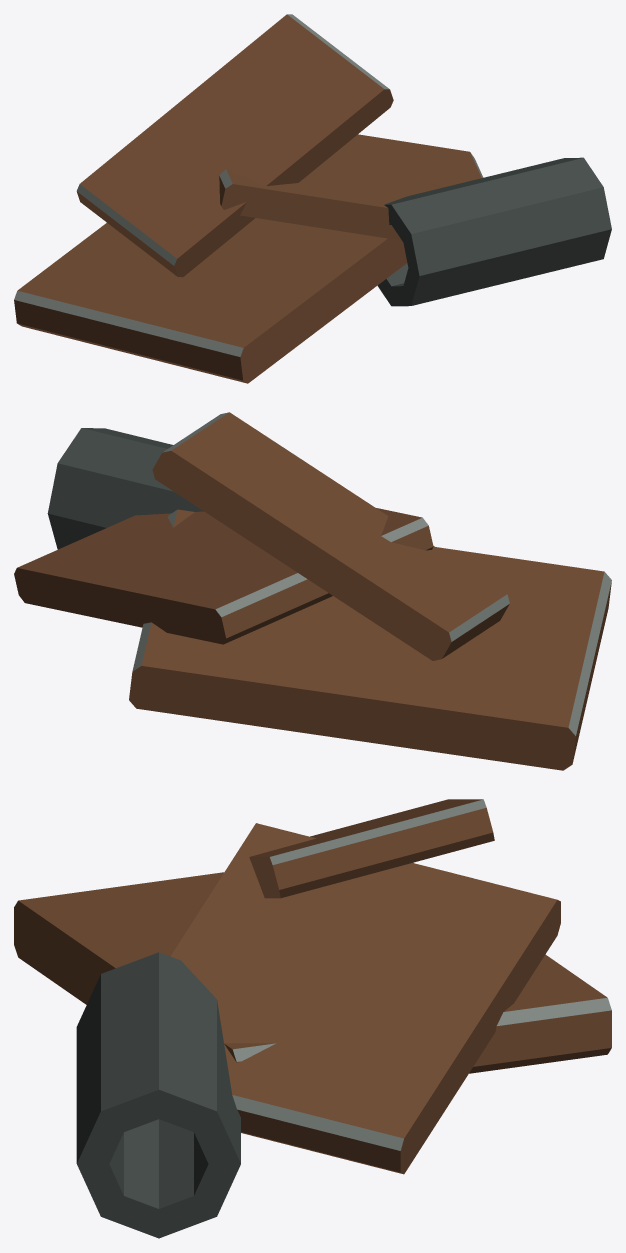
The model's file is ScrapMetal.gltf.
The picture shows the model from 3 angles, top to bottom: view 1: azimuth 30°, elevation 25°; view 2: azimuth 150°, elevation 25°; view 3: azimuth 270°, elevation 25°; orthographic projection. The views are drawn at different scales.
Parts seen in each view (by area): view 1: ScrapMetal; view 2: ScrapMetal; view 3: ScrapMetal.
Boxes of the visible parts, bbox=[...] form: ScrapMetal: bbox=[14, 14, 611, 383]; ScrapMetal: bbox=[14, 412, 611, 770]; ScrapMetal: bbox=[14, 799, 611, 1238].
Size of the model in its own units: 0.4849 by 0.205 by 0.3494.
